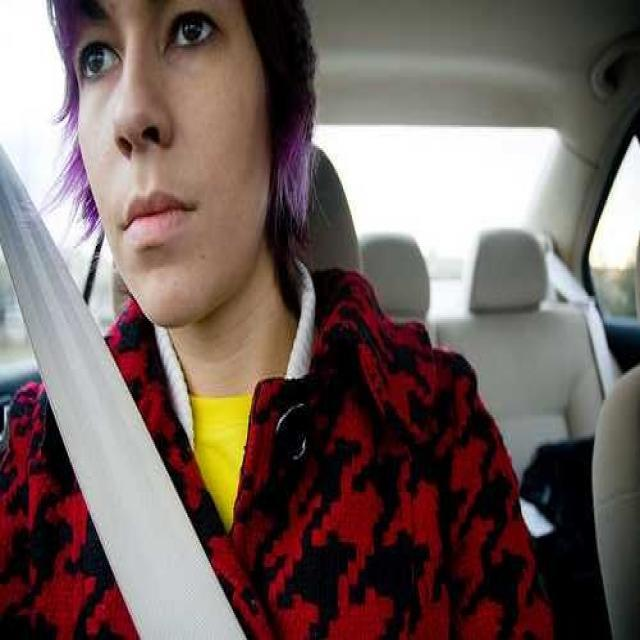seatbelt: (10, 159, 227, 640)
